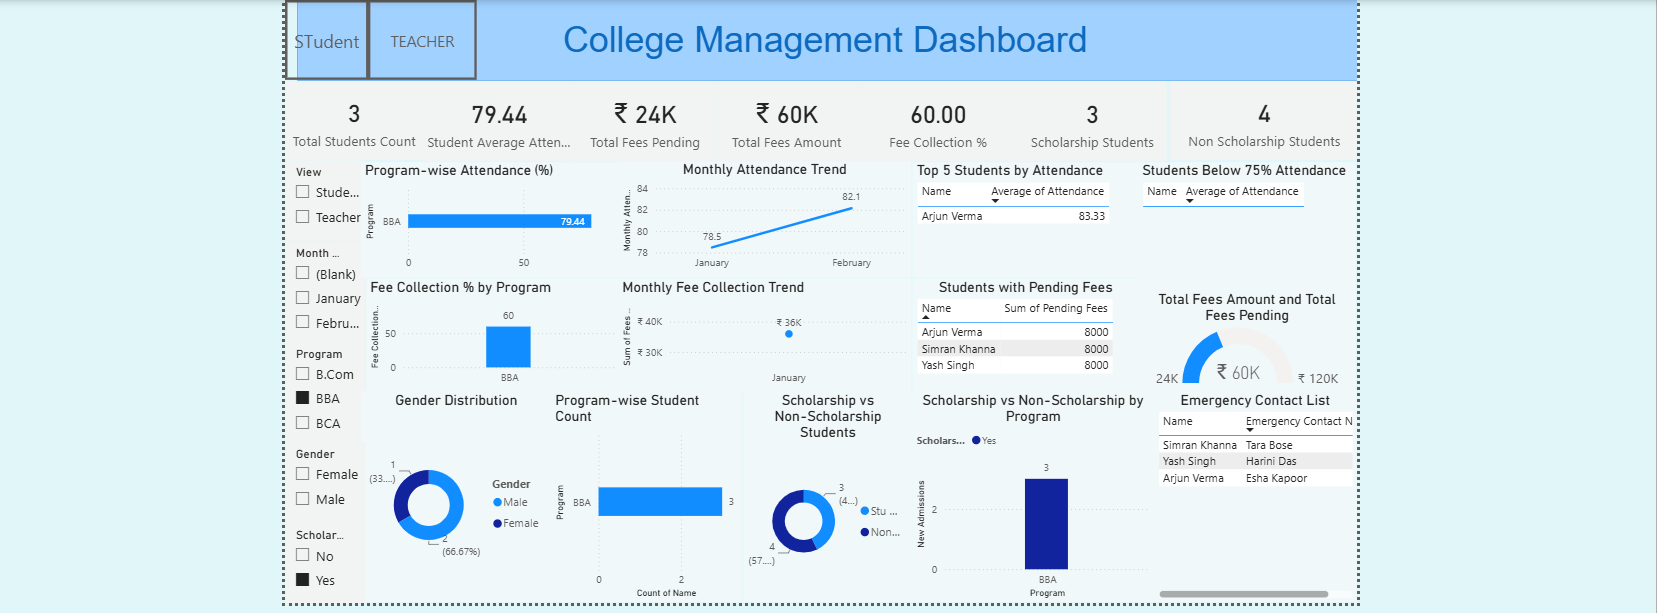

This screenshot's page, from the dashboard's own definition file:
{"tool":"powerbi","page":{"name":"Main dashboard","canvas":[1280,720],"ordinal":5},"visuals":[{"type":"card","fields":{"Values":["Students.Total Students Count"]},"box":[0,97,165.2,94.4],"z":0,"group":"g1"},{"type":"slicer","title":"Slicer 2","fields":{"Values":["Date.Month Name"]},"box":[0,288,96,120],"z":0},{"type":"card","fields":{"Values":["Students.Student Average Attendance %"]},"box":[165.1,95.8,182.8,95.8],"z":1000,"group":"g1"},{"type":"slicer","title":"Slicer 1","fields":{"Values":["DashboardSelector.View"]},"box":[0,192,96,96],"z":1000},{"type":"shape","box":[14.2,0,1272,96],"z":2000,"group":"g1"},{"type":"group","id":"g1","title":"student_group","box":[0,0,1286.2,720],"z":3000},{"type":"actionButton","box":[99.8,0,130.1,95.4],"z":4000},{"type":"lineChart","title":"Monthly Attendance Trend","fields":{"Category":["Date.Month Name"],"Y":["Date.Monthly Attendance %"]},"box":[398,192,350,140],"z":4000,"group":"g1"},{"type":"actionButton","box":[0,0,99.8,95.4],"z":5000},{"type":"barChart","title":"Program-wise Attendance (%)","fields":{"Category":["Students.Program"],"Y":["Avg(Students.Attendance)"]},"box":[90,194,308,138],"z":5000,"group":"g1"},{"type":"actionButton","box":[14.2,0,95.4,95.4],"z":6000,"group":"g1"},{"type":"tableEx","title":"Top 5 Students by Attendance","fields":{"Values":["Students.Name","Avg(Students.Attendance)"]},"box":[748,194,270,138],"z":7000,"group":"g1"},{"type":"tableEx","title":"Students Below 75% Attendance","fields":{"Values":["Students.Name","Avg(Students.Attendance)"]},"box":[1018,194,260,154],"z":8000,"group":"g1"},{"type":"slicer","fields":{"Values":["Students.Program"]},"box":[0,408,96,120],"z":9000,"group":"g1"},{"type":"textbox","box":[14.2,0,1272,96],"z":10000,"group":"g1"},{"type":"gauge","fields":{"Y":["Students.Total Fees Amount"],"MinValue":["Students.Total Fees Pending"]},"box":[1018,348,260,120],"z":11000,"group":"g1"},{"type":"columnChart","fields":{"Category":["Students.Program"],"Y":["Students.Fee Collection %"]},"box":[96,332,302,136],"z":12000,"group":"g1"},{"type":"lineChart","title":"Monthly Fee Collection Trend","fields":{"Y":["Sum(Fee Payment Monthly.Fees Paid Amount)"],"Category":["Date.Month Name"]},"box":[398,332,350,136],"z":13000,"group":"g1"},{"type":"tableEx","title":"Students with Pending Fees","fields":{"Values":["Students.Name","Sum(Students.Pending Fees)"]},"box":[748,332,270,136],"z":14000,"group":"g1"},{"type":"card","fields":{"Values":["Students.Total Fees Pending"]},"box":[347.9,95.8,165.4,95.8],"z":15000,"group":"g1"},{"type":"card","fields":{"Values":["Students.Total Fees Amount"]},"box":[513.3,95.8,171.2,95.8],"z":16000,"group":"g1"},{"type":"donutChart","title":"Gender Distribution","fields":{"Series":["Students.Gender"],"Y":["CountNonNull(Students.Name)"],"Category":["Students.Gender"]},"box":[90,468,228,252],"z":17000,"group":"g1"},{"type":"card","fields":{"Values":["Students.Fee Collection %"]},"box":[684.5,95.8,191.5,95.8],"z":18000,"group":"g1"},{"type":"clusteredBarChart","title":"Program-wise Student Count","fields":{"Y":["CountNonNull(Students.Name)"],"Category":["Students.Program"]},"box":[318,468,228,252],"z":19000,"group":"g1"},{"type":"donutChart","title":"Scholarship vs Non-Scholarship Students","fields":{"Y":["Students.Scholarship Students","Students.Non Scholarship Students"]},"box":[546,468,202,252],"z":20000,"group":"g1"},{"type":"slicer","fields":{"Values":["Students.Scholarship (Yes/No)"]},"box":[0,624,96,96],"z":21000,"group":"g1"},{"type":"tableEx","title":"Emergency Contact List","fields":{"Values":["Students.Name","Students.Emergency Contact Name "]},"box":[1036,468,242,252],"z":22000,"group":"g1"},{"type":"clusteredColumnChart","title":"Scholarship vs Non-Scholarship by Program","fields":{"Category":["Students.Program"],"Y":["Date.New Admissions"],"Series":["Students.Scholarship (Yes/No)"]},"box":[748,468,288,252],"z":23000,"group":"g1"},{"type":"slicer","fields":{"Values":["Students.Gender"]},"box":[0,528,96,96],"z":24000,"group":"g1"},{"type":"card","fields":{"Values":["Students.Scholarship Students"]},"box":[876.1,95.8,177,95.8],"z":25000,"group":"g1"},{"type":"card","fields":{"Values":["Students.Non Scholarship Students"]},"box":[1056.6,97,225.5,94.4],"z":26000,"group":"g1"}]}

Visuals, with their boxes on the page's 1280x720 design canvas (x1, y1, x2, y2). These are canvas units, not pixel positions in the 1657x613 screenshot, which may show the page scaled, cropped or inside an application window:
card - Students.Total Students Count: locate(0, 97, 165, 191)
"Slicer 2" slicer: locate(0, 288, 96, 408)
card - Students.Student Average Attendance %: locate(165, 96, 348, 192)
"Slicer 1" slicer: locate(0, 192, 96, 288)
shape: locate(14, 0, 1286, 96)
"student_group" group: locate(0, 0, 1286, 720)
actionButton: locate(100, 0, 230, 95)
"Monthly Attendance Trend" lineChart: locate(398, 192, 748, 332)
actionButton: locate(0, 0, 100, 95)
"Program-wise Attendance (%)" barChart: locate(90, 194, 398, 332)
actionButton: locate(14, 0, 110, 95)
"Top 5 Students by Attendance" tableEx: locate(748, 194, 1018, 332)
"Students Below 75% Attendance" tableEx: locate(1018, 194, 1278, 348)
slicer - Students.Program: locate(0, 408, 96, 528)
textbox: locate(14, 0, 1286, 96)
gauge - Students.Total Fees Amount x Students.Total Fees Pending: locate(1018, 348, 1278, 468)
columnChart - Students.Program x Students.Fee Collection %: locate(96, 332, 398, 468)
"Monthly Fee Collection Trend" lineChart: locate(398, 332, 748, 468)
"Students with Pending Fees" tableEx: locate(748, 332, 1018, 468)
card - Students.Total Fees Pending: locate(348, 96, 513, 192)
card - Students.Total Fees Amount: locate(513, 96, 684, 192)
"Gender Distribution" donutChart: locate(90, 468, 318, 720)
card - Students.Fee Collection %: locate(684, 96, 876, 192)
"Program-wise Student Count" clusteredBarChart: locate(318, 468, 546, 720)
"Scholarship vs Non-Scholarship Students" donutChart: locate(546, 468, 748, 720)
slicer - Students.Scholarship (Yes/No): locate(0, 624, 96, 720)
"Emergency Contact List" tableEx: locate(1036, 468, 1278, 720)
"Scholarship vs Non-Scholarship by Program" clusteredColumnChart: locate(748, 468, 1036, 720)
slicer - Students.Gender: locate(0, 528, 96, 624)
card - Students.Scholarship Students: locate(876, 96, 1053, 192)
card - Students.Non Scholarship Students: locate(1057, 97, 1282, 191)
